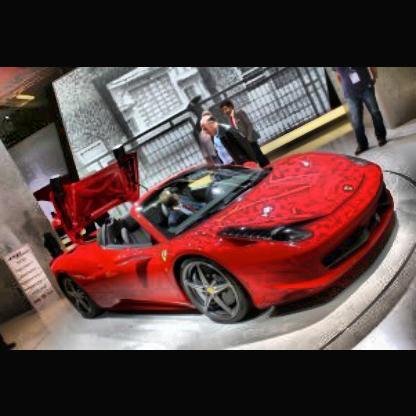Ferrari 458 Italia Convertible 2012: (36, 143, 403, 325)
